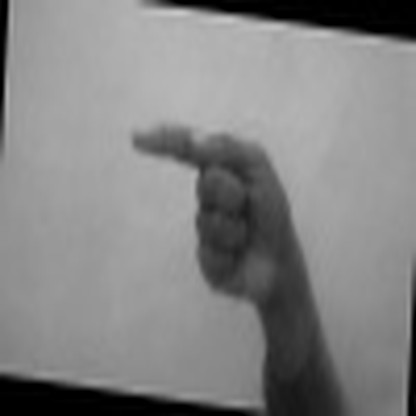g: (105, 118, 313, 301)
